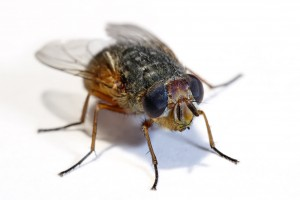house fly: (31, 19, 248, 192)
